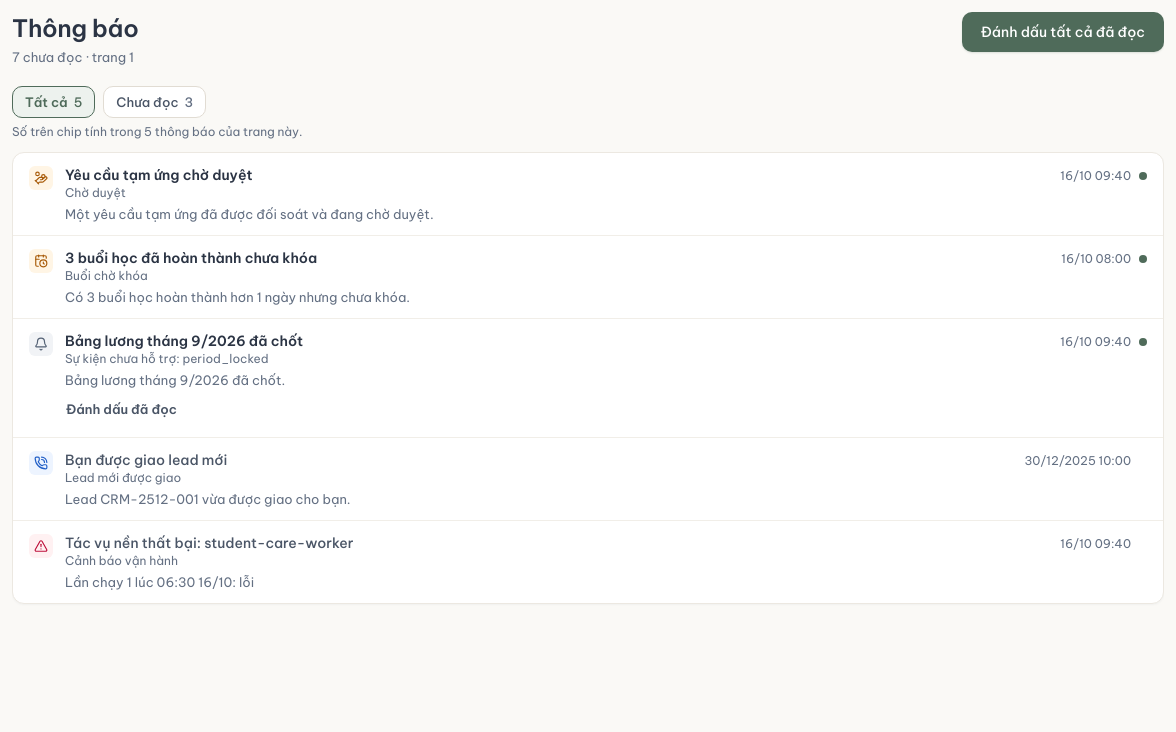
Test: NotificationListPage (step 14d) › a refused mark-read keeps the row unread and shows exactly one alert, in that row, with focus back on its button
Click the button with aria-label "Đánh dấu đã đọc: Bảng lương tháng 9/2026 đã chốt" at (122, 409), box [53,393,190,425]
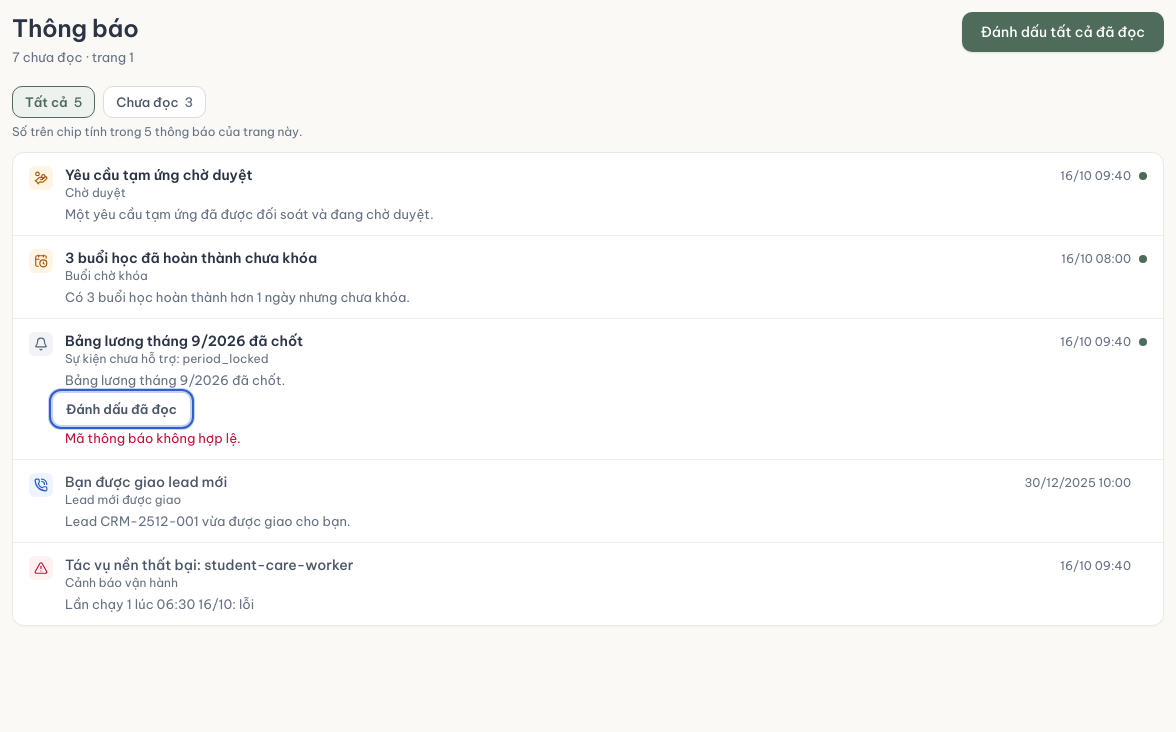
Expected: the message reads "Mã thông báo không hợp lệ.", [65,430,241,446]
Expected: the number of messages is 1, [65,430,241,446]
Click the button "Đánh dấu tất cả đã đọc" at (1063, 32), box [962,12,1164,52]
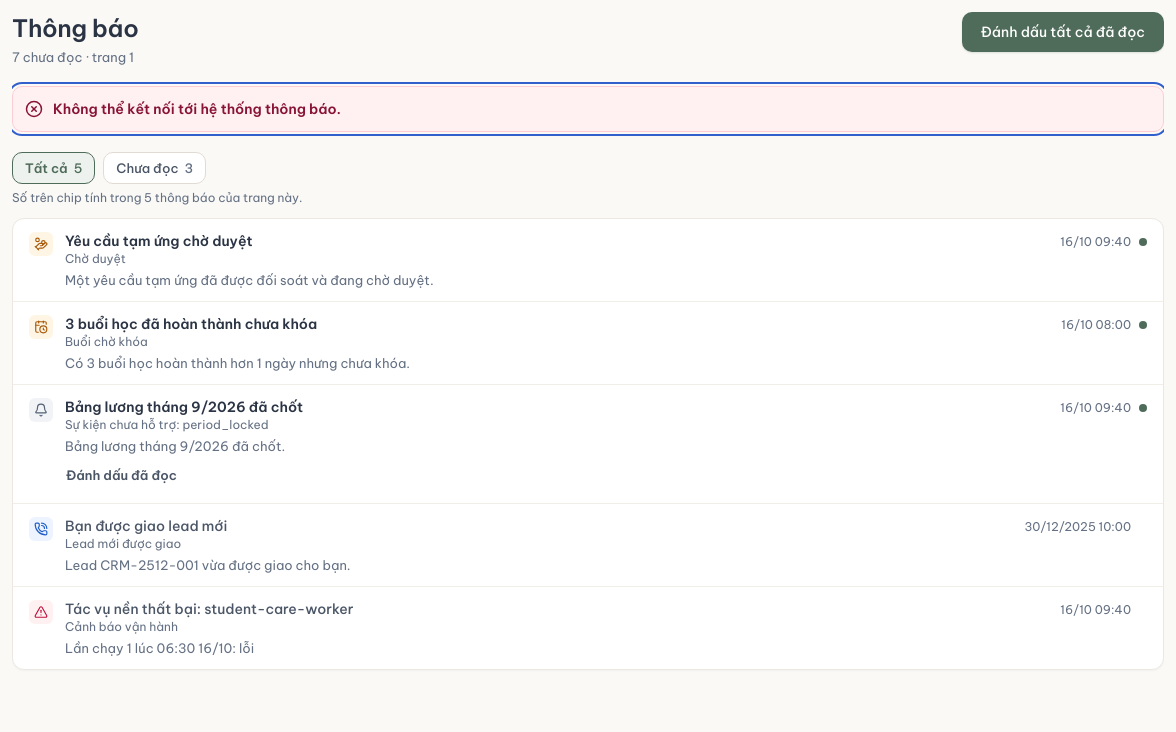
Expected: the message reads "Không thể kết nối tới hệ thống thông báo.", [53,100,341,118]
Expected: the number of messages is 1, [12,86,1164,132]
